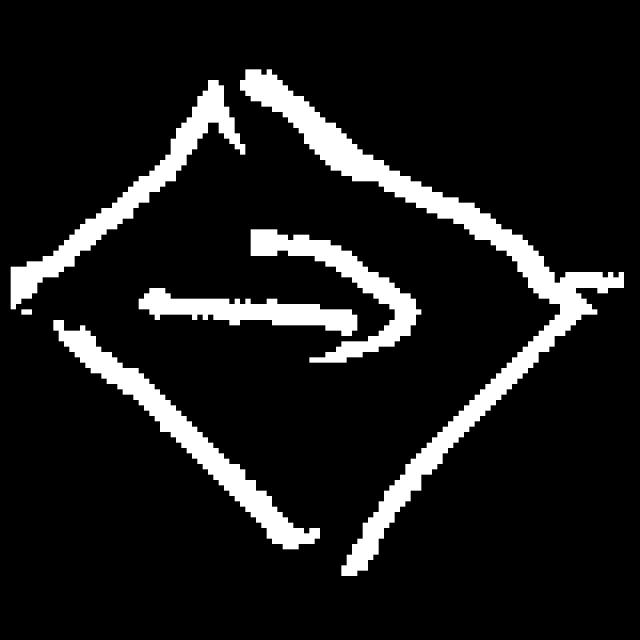dependant_current: (26, 95, 584, 583)
